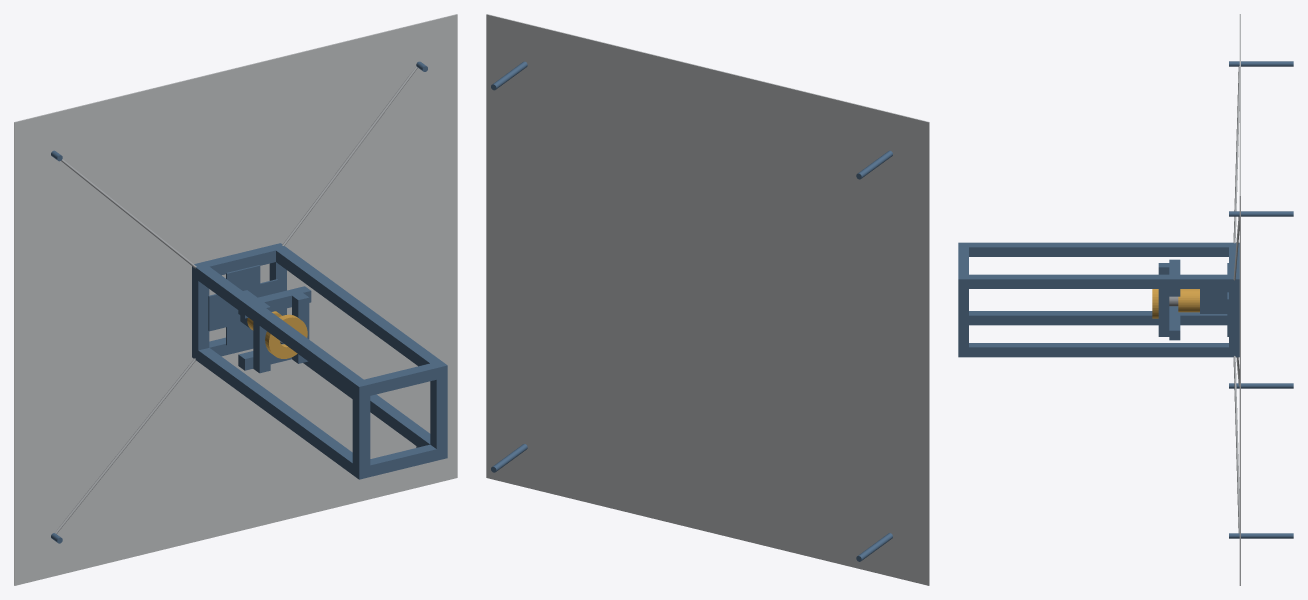
The model's file is stand_v3.glb.
3 renders of one model, left to right at view 1: azimuth 30°, elevation 25°; view 2: azimuth 150°, elevation 25°; view 3: azimuth 270°, elevation 25°, orthographic. The views are drawn at different scales.
Parts seen in each view (by area): view 1: Ground, Upright_1, Upright, Upright_3, Plate 3.2 mm Al, Top rail, Upright_2, Top rail_3, Top rail_2, Top rail_1, Bottom rail, Bottom rail_3 (+7 smaller); view 2: Ground; view 3: Upright_1, Upright_2, Upright_3, Upright, Ground, Top rail_2, Bottom rail_2, S-type load cell, Ring bar_1, Collar (printed), Guy rope_1, Guy rope_2.
Boxes of the visible parts, <box> form: Ground: <box>14,14,457,585</box>; Upright_1: <box>198,266,363,393</box>; Upright: <box>198,348,352,474</box>; Upright_3: <box>276,248,440,366</box>; Plate 3.2 mm Al: <box>208,265,277,345</box>; Top rail: <box>352,381,370,479</box>; Upright_2: <box>280,342,430,447</box>; Top rail_3: <box>352,361,447,397</box>; Top rail_2: <box>430,361,447,459</box>; Top rail_1: <box>352,444,447,479</box>; Bottom rail: <box>192,262,209,361</box>; Bottom rail_3: <box>192,243,285,278</box>; Ground: <box>486,14,929,585</box>; Upright_1: <box>969,242,1228,256</box>; Upright_2: <box>969,343,1228,357</box>; Upright_3: <box>969,274,1228,288</box>; Upright: <box>969,311,1227,325</box>; Ground: <box>1239,14,1240,585</box>; Top rail_2: <box>958,277,968,356</box>; Bottom rail_2: <box>1229,277,1239,356</box>; S-type load cell: <box>1200,289,1227,313</box>; Ring bar_1: <box>1158,289,1169,336</box>; Collar (printed): <box>1178,289,1199,312</box>; Guy rope_1: <box>1233,356,1239,533</box>; Guy rope_2: <box>1233,66,1239,243</box>.
Size of the model in its own units: 800 by 800 by 623.
